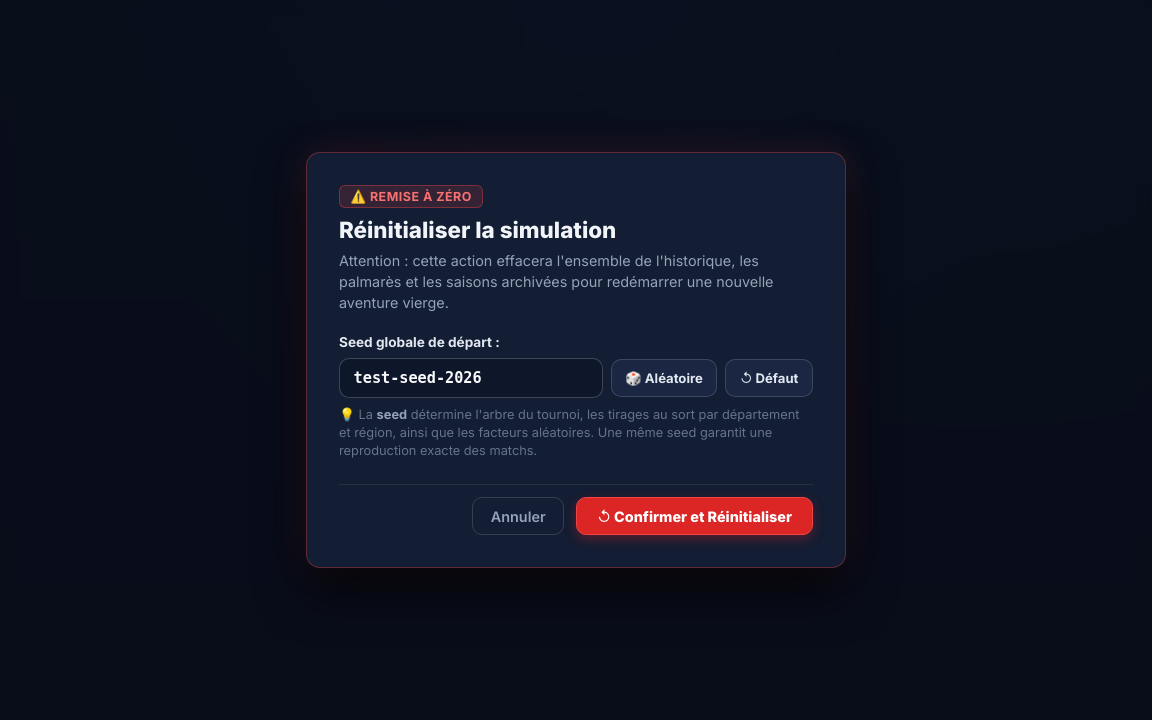
Scenario: ResetModal › restores default seed when clicking Défaut
The image size is (1152, 720).
Replace the text in the field labelled "Seed globale de départ :" with "autre-chose" at (471, 378), box [339,358,603,398]
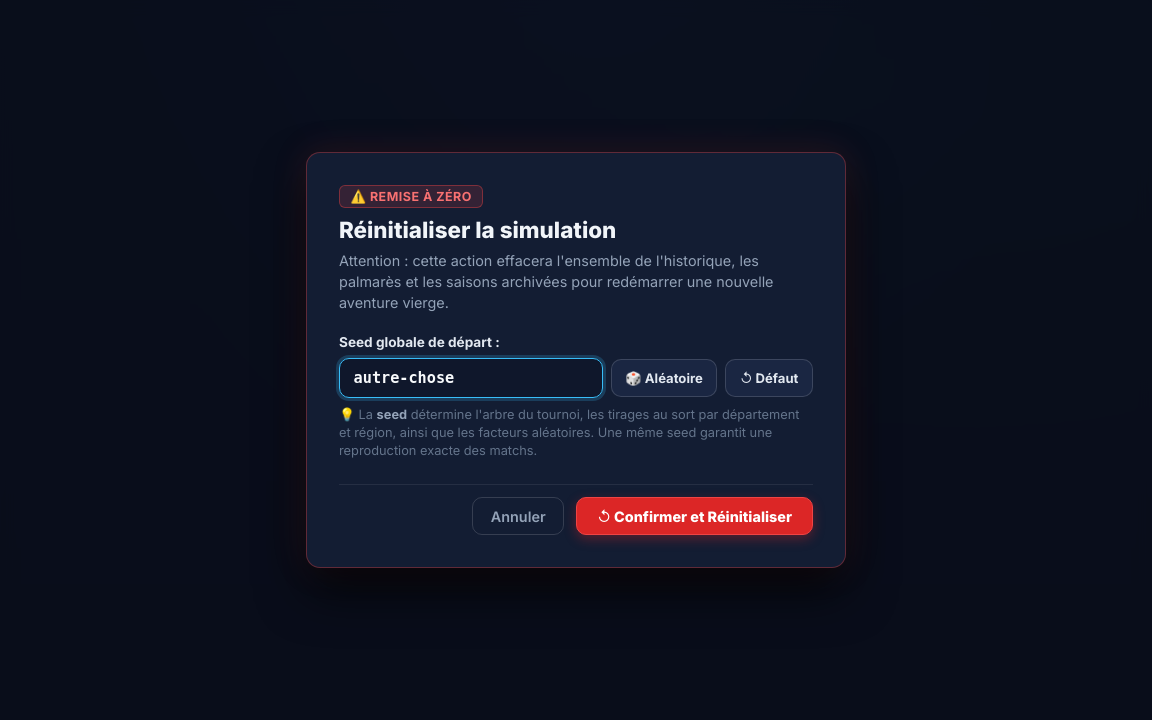
Click the button "↺ Défaut" at (769, 378), box [725,359,813,398]
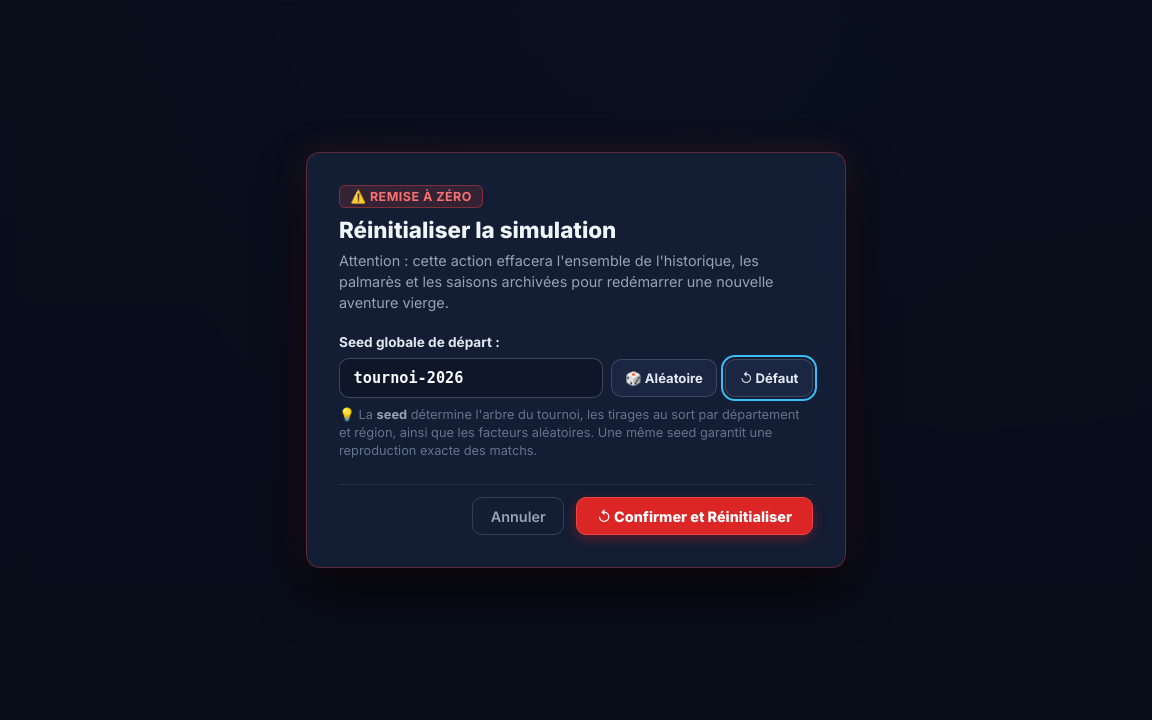
Result: the field labelled "Seed globale de départ :" holds "tournoi-2026" at [339,358,603,398]
